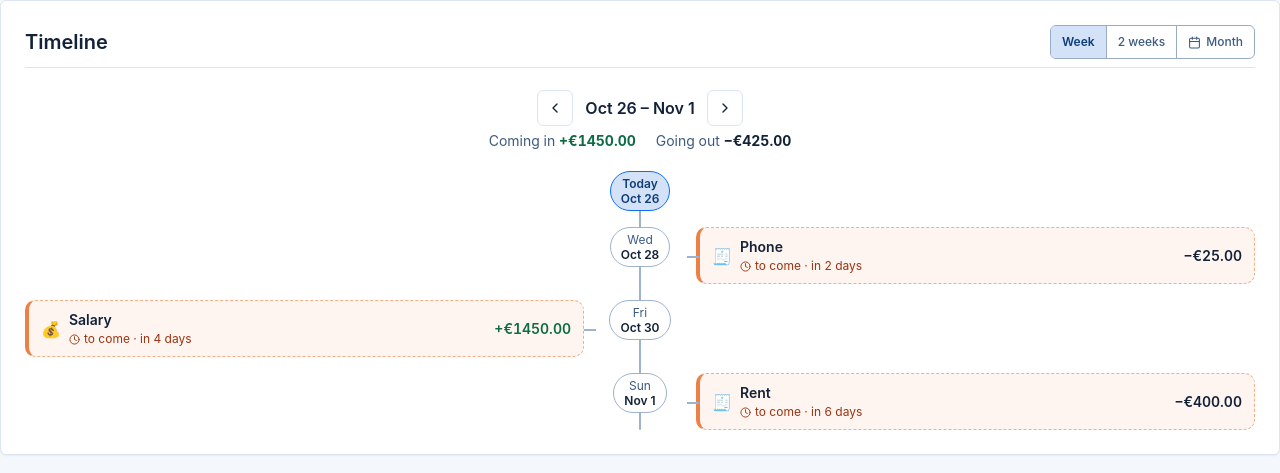
Scenario: money as a tree › steps a week at a time, and a month shows the whole month
Click the button named "Next period": coordinates (725, 108) [707,90,743,126]
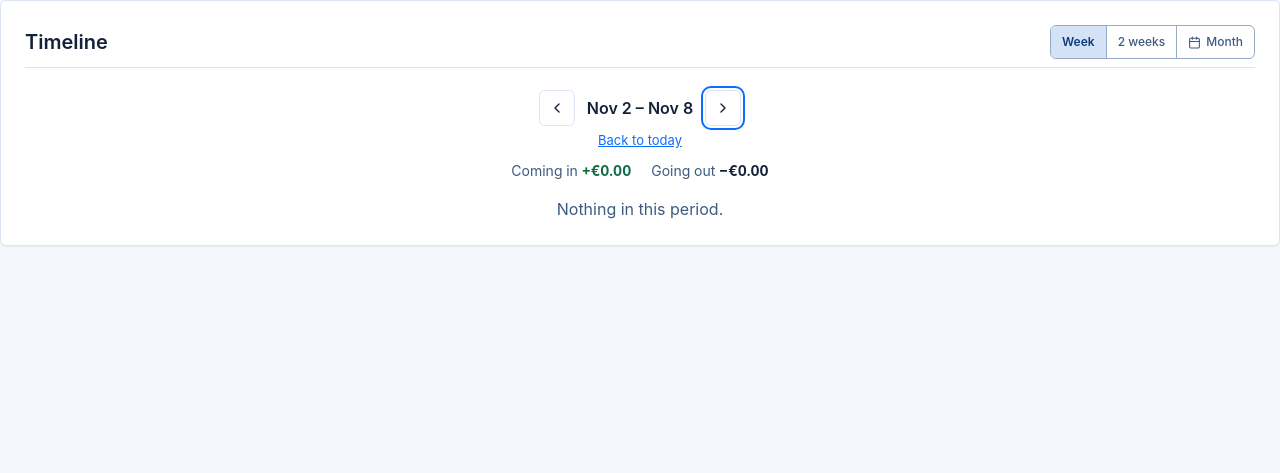
Expected: the text "Nothing in this period." is shown, [557,198,723,218]
Click the button "Back to today": coordinates (640, 141) [597,130,683,152]
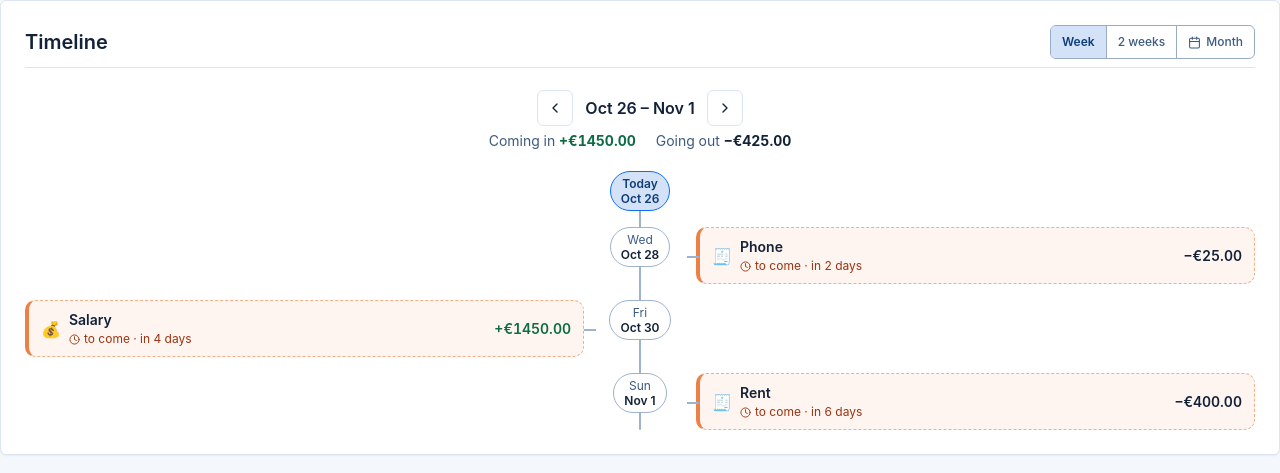
Click the button "Month": coordinates (1215, 42) [1176,26,1254,58]
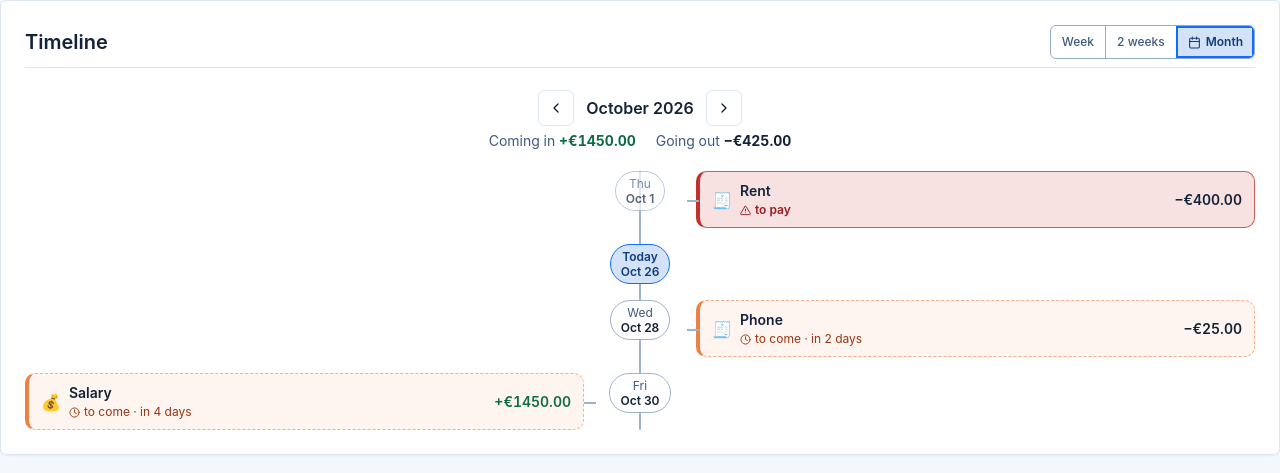
Expected: the text "Phone" is shown, [740,311,783,328]
Expected: the text "October 2026" is shown, [586,96,694,120]
Expected: the list item "Rent" shows "to pay", [755,202,791,217]
